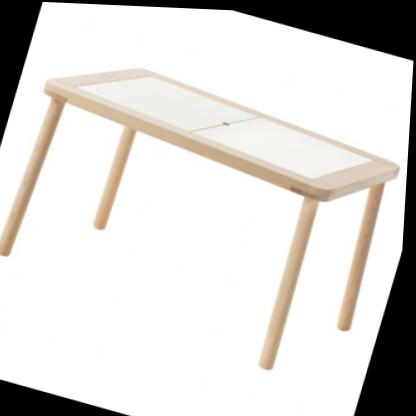Table: (0, 34, 414, 392)
